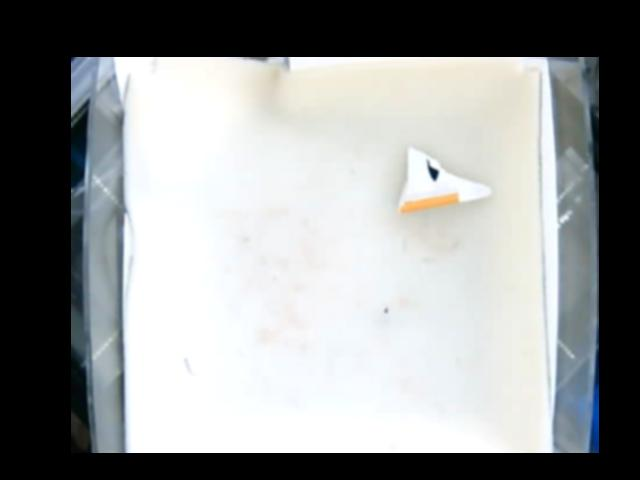China: (395, 146, 496, 211)
